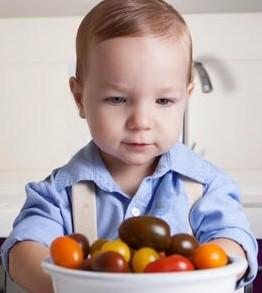Healthy: (53, 0, 223, 174)
